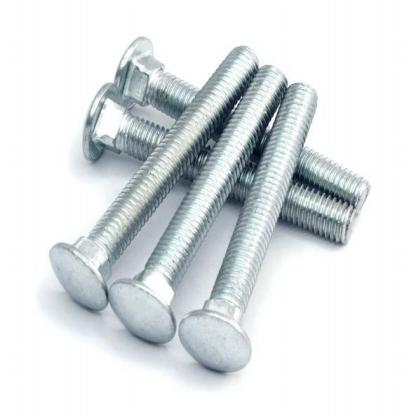FOD: (48, 45, 262, 314), (106, 61, 290, 347), (81, 84, 360, 250), (113, 32, 370, 211), (176, 80, 318, 378)
